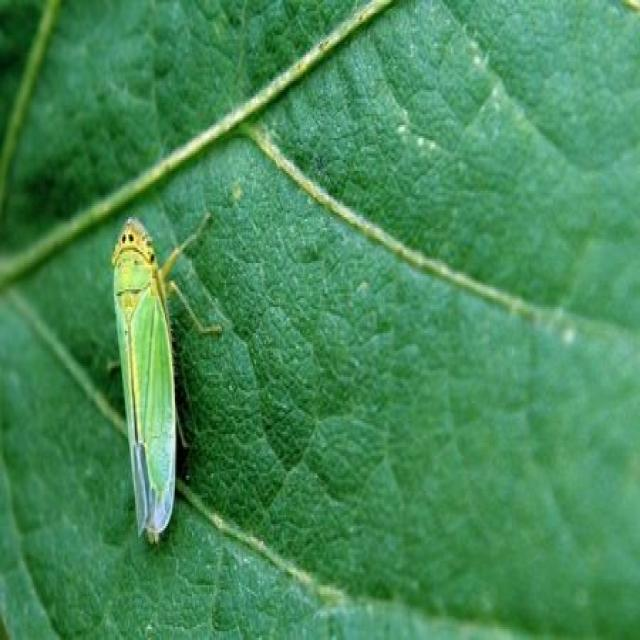Yechan: (107, 202, 220, 545)
